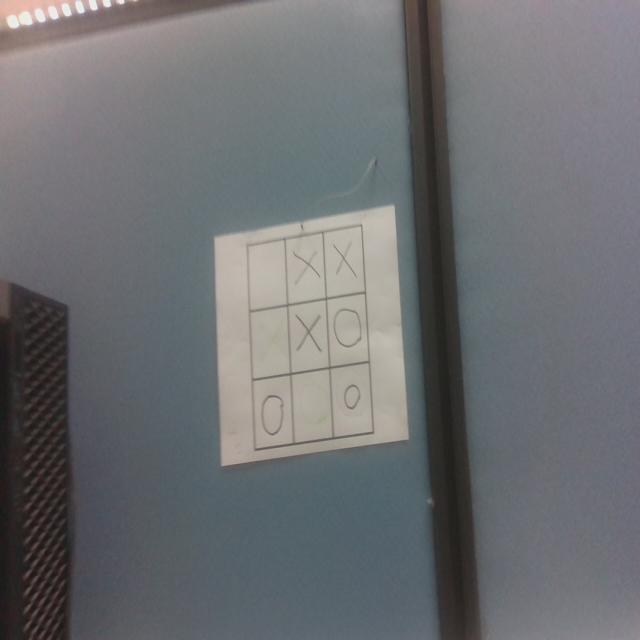null: (249, 239, 285, 310)
o: (298, 381, 329, 429), (331, 303, 364, 348), (260, 392, 285, 436), (343, 382, 362, 411)
table: (246, 221, 371, 454)
x: (325, 237, 357, 278), (291, 246, 325, 282), (260, 315, 285, 363), (296, 312, 324, 354)
